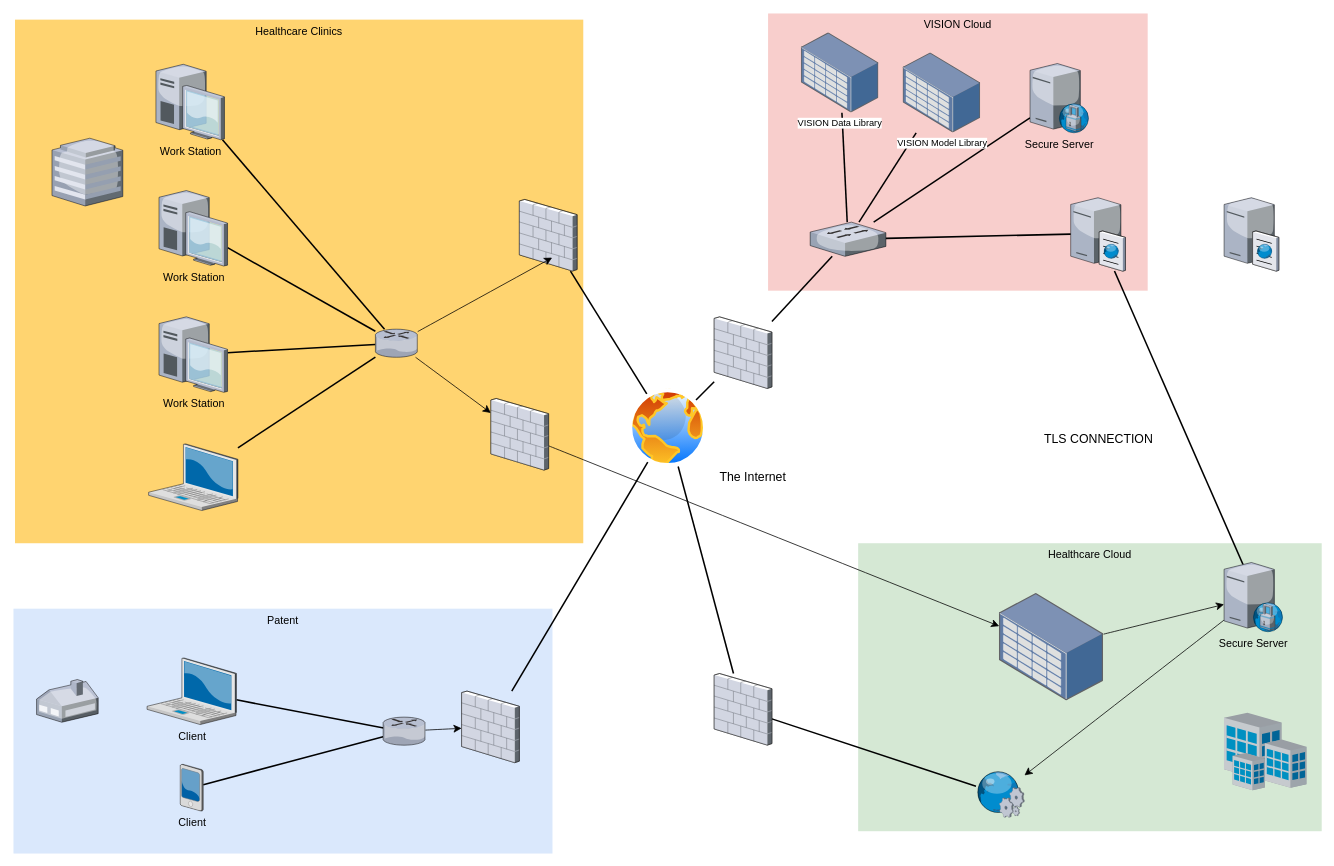
This 1334x866 diagram has some shape labels left out. Each missing label, with the centre of its shape:
"Cache Server" belongs at pixel 1251 233.
"Clinic" belongs at pixel 87 172.
"Patent Data" belongs at pixel 1051 646.
"Web Server" belongs at pixel 1097 233.
"Web service" belongs at pixel 1000 794.
"Work Laptop" belongs at pixel 193 477.
